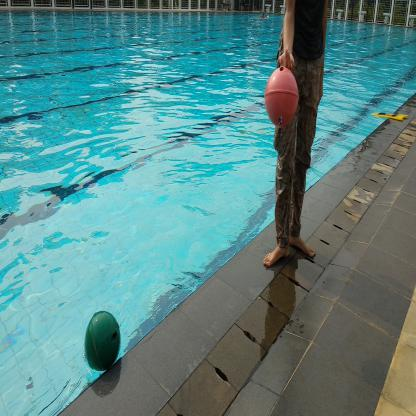green_buoy: (82, 308, 121, 373)
red_buoy: (262, 64, 299, 126)
